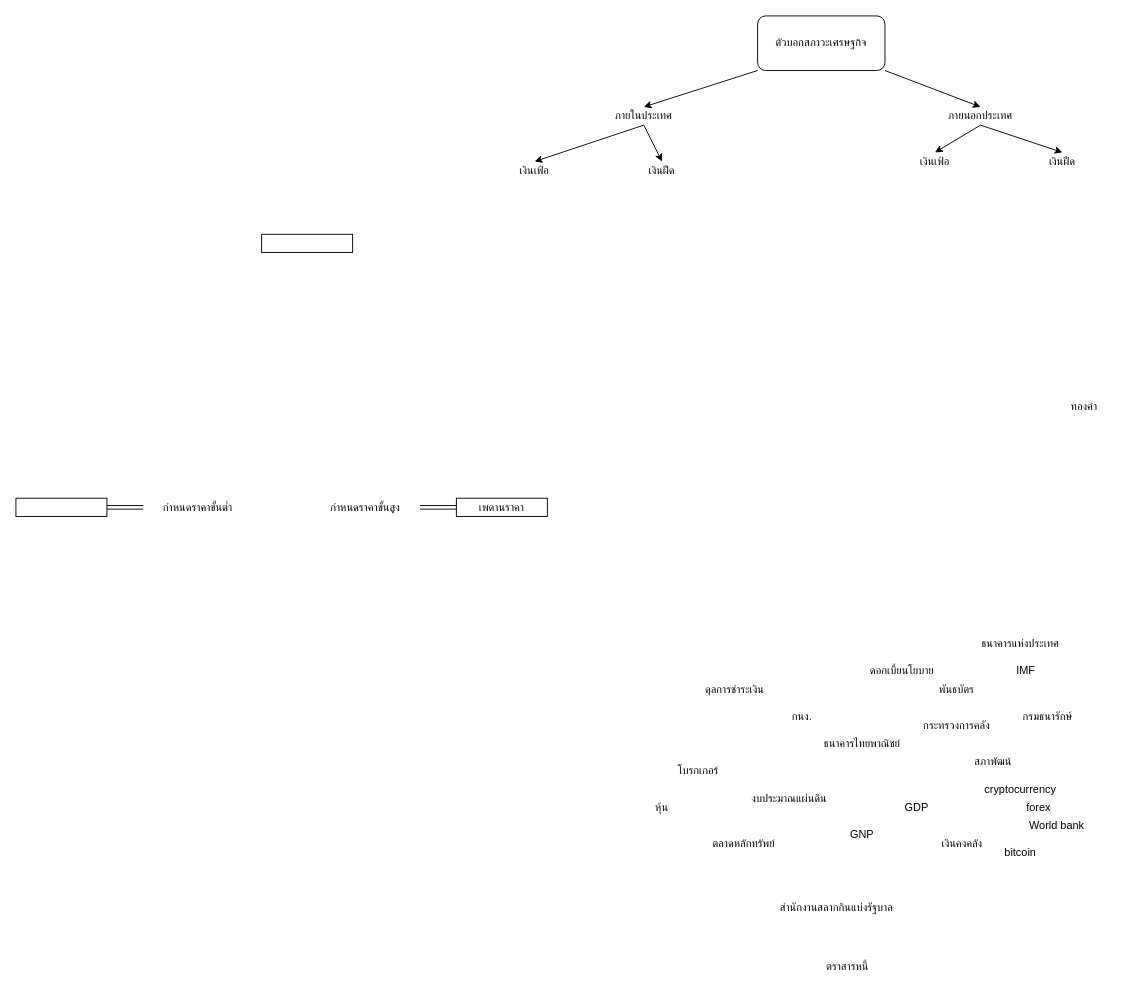
This 1146x992 diagram has some shape labels left out. Here are the shapes that lost their labels. From the top down, the centre of each, then its label:
[307,243]: รัฐบาล
[61,506]: ประกันราคา
